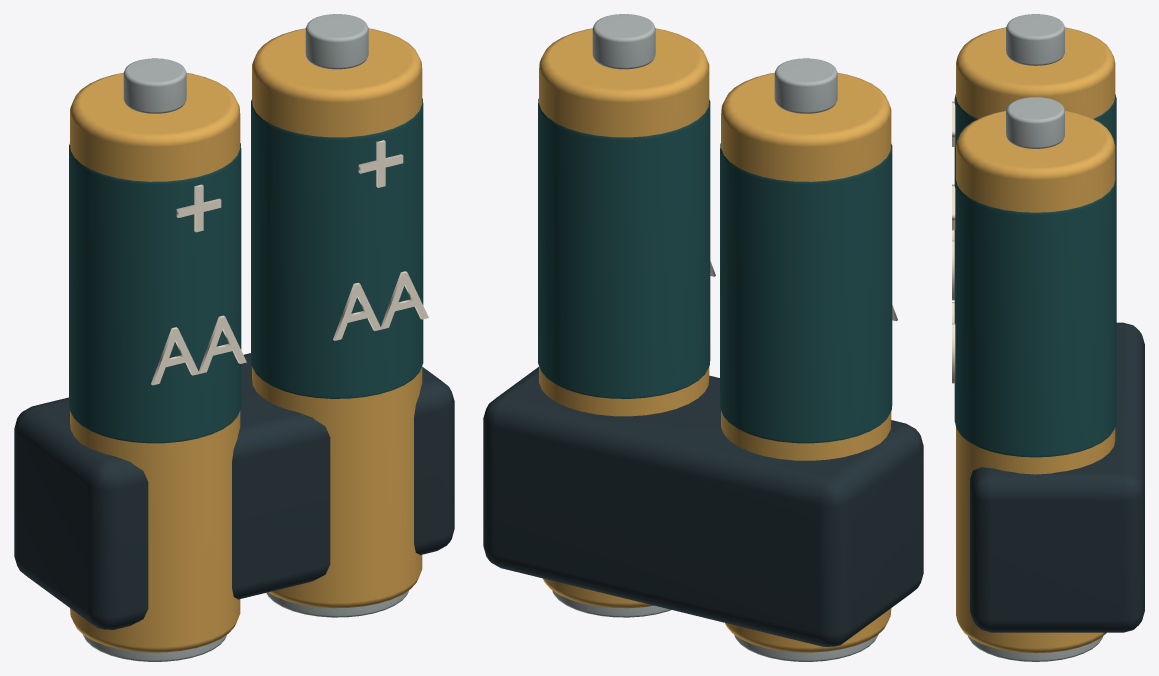
Rendered from Batteries.fbx.
3 renders of one model, left to right at view 1: azimuth 30°, elevation 25°; view 2: azimuth 150°, elevation 25°; view 3: azimuth 270°, elevation 25°, orthographic. The views are drawn at different scales.
Parts seen in each view (by area): view 1: Surface_KKTC_CanvasDeep, Surface_KKTC_Ochre, Surface_KKTC_Rubber, Surface_KKTC_Metal, Surface_KKTC_WarmWhite; view 2: Surface_KKTC_CanvasDeep, Surface_KKTC_Rubber, Surface_KKTC_Ochre, Surface_KKTC_Metal; view 3: Surface_KKTC_CanvasDeep, Surface_KKTC_Rubber, Surface_KKTC_Ochre, Surface_KKTC_Metal, Surface_KKTC_WarmWhite.
Part boxes in pixels (<box>): Surface_KKTC_CanvasDeep: <box>69,98,423,443</box>; Surface_KKTC_Ochre: <box>70,28,422,652</box>; Surface_KKTC_Rubber: <box>14,353,454,629</box>; Surface_KKTC_Metal: <box>83,14,409,661</box>; Surface_KKTC_WarmWhite: <box>151,140,428,385</box>; Surface_KKTC_CanvasDeep: <box>538,98,892,443</box>; Surface_KKTC_Rubber: <box>483,367,923,646</box>; Surface_KKTC_Ochre: <box>539,28,891,652</box>; Surface_KKTC_Metal: <box>552,14,878,661</box>; Surface_KKTC_CanvasDeep: <box>954,94,1116,457</box>; Surface_KKTC_Rubber: <box>970,322,1144,632</box>; Surface_KKTC_Ochre: <box>956,27,1115,653</box>; Surface_KKTC_Metal: <box>968,14,1103,661</box>; Surface_KKTC_WarmWhite: <box>952,101,955,383</box>.
Size of the model in its own units: 3.6 by 5.31 by 1.77.
